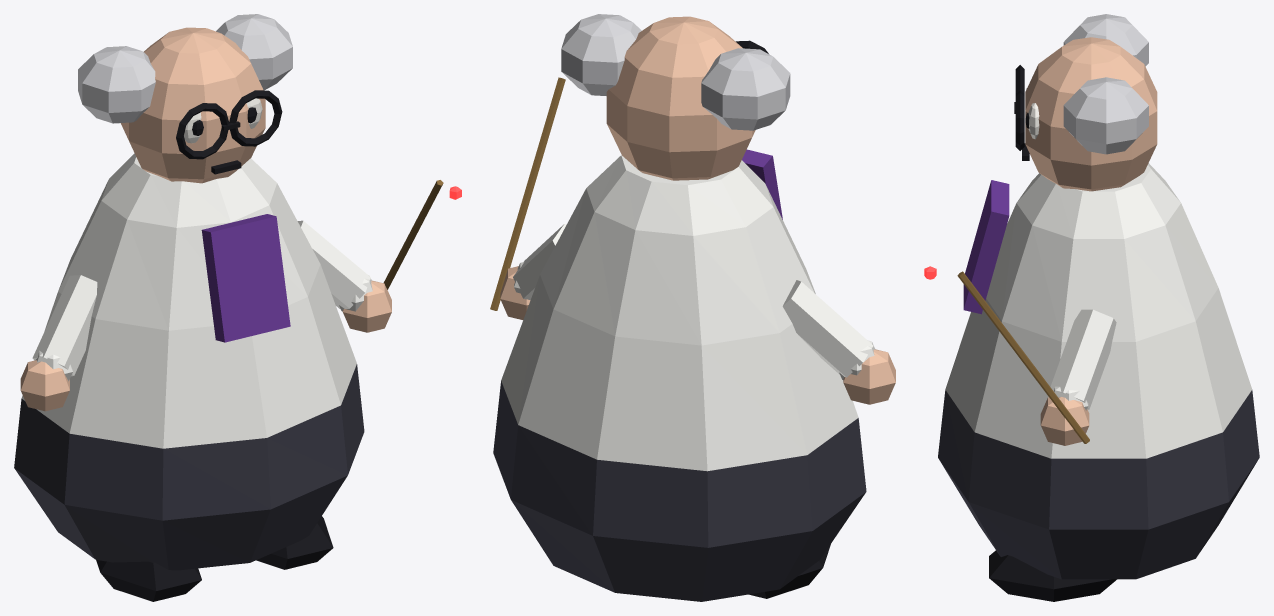
The model's file is npc_orbita.glb.
3 views of the same model, side by side, from view 1: azimuth 30°, elevation 25°; view 2: azimuth 150°, elevation 25°; view 3: azimuth 270°, elevation 25° (orthographic). The views are drawn at different scales.
Visible parts, largest first — view 1: body_lab_coat, body_orbita_pants, head_skin_rosada, body_orbita_sweater, hair_hair_grey (×2), arms_lab_coat, legs_black, arms_skin_rosada, face_black, props_pointer; view 2: body_lab_coat, body_orbita_pants, head_skin_rosada, hair_hair_grey (×2), arms_lab_coat, arms_skin_rosada, props_pointer, body_orbita_sweater, legs_black; view 3: body_lab_coat, body_orbita_pants, head_skin_rosada, hair_hair_grey (×2), arms_lab_coat, body_orbita_sweater, legs_black, arms_skin_rosada, props_pointer, face_black.
Part boxes in pixels (left/top/right/bottom): body_lab_coat: left=21, top=153, right=356, bottom=448; body_orbita_pants: left=14, top=364, right=364, bottom=570; head_skin_rosada: left=120, top=27, right=265, bottom=183; body_orbita_sweater: left=201, top=214, right=290, bottom=342; hair_hair_grey (×2): left=78, top=14, right=292, bottom=123; arms_lab_coat: left=32, top=220, right=372, bottom=381; legs_black: left=96, top=516, right=333, bottom=601; arms_skin_rosada: left=20, top=280, right=391, bottom=411; face_black: left=176, top=90, right=282, bottom=174; props_pointer: left=383, top=180, right=443, bottom=289; body_lab_coat: left=501, top=155, right=858, bottom=471; body_orbita_pants: left=493, top=381, right=866, bottom=601; head_skin_rosada: left=606, top=16, right=755, bottom=180; hair_hair_grey (×2): left=561, top=14, right=790, bottom=130; arms_lab_coat: left=513, top=224, right=875, bottom=379; arms_skin_rosada: left=500, top=266, right=895, bottom=404; props_pointer: left=490, top=77, right=565, bottom=310; body_orbita_sweater: left=742, top=149, right=782, bottom=219; legs_black: left=749, top=544, right=830, bottom=598; body_lab_coat: left=945, top=163, right=1252, bottom=458; body_orbita_pants: left=938, top=390, right=1259, bottom=579; head_skin_rosada: left=1025, top=37, right=1157, bottom=191; hair_hair_grey (×2): left=1063, top=14, right=1148, bottom=154; arms_lab_coat: left=1050, top=309, right=1116, bottom=410; body_orbita_sweater: left=963, top=180, right=1009, bottom=314; legs_black: left=989, top=550, right=1116, bottom=601; arms_skin_rosada: left=1040, top=396, right=1089, bottom=445; props_pointer: left=957, top=271, right=1089, bottom=443; face_black: left=1014, top=65, right=1029, bottom=160.
Size of the model in its own units: 1.13 by 1.53 by 0.8965.
